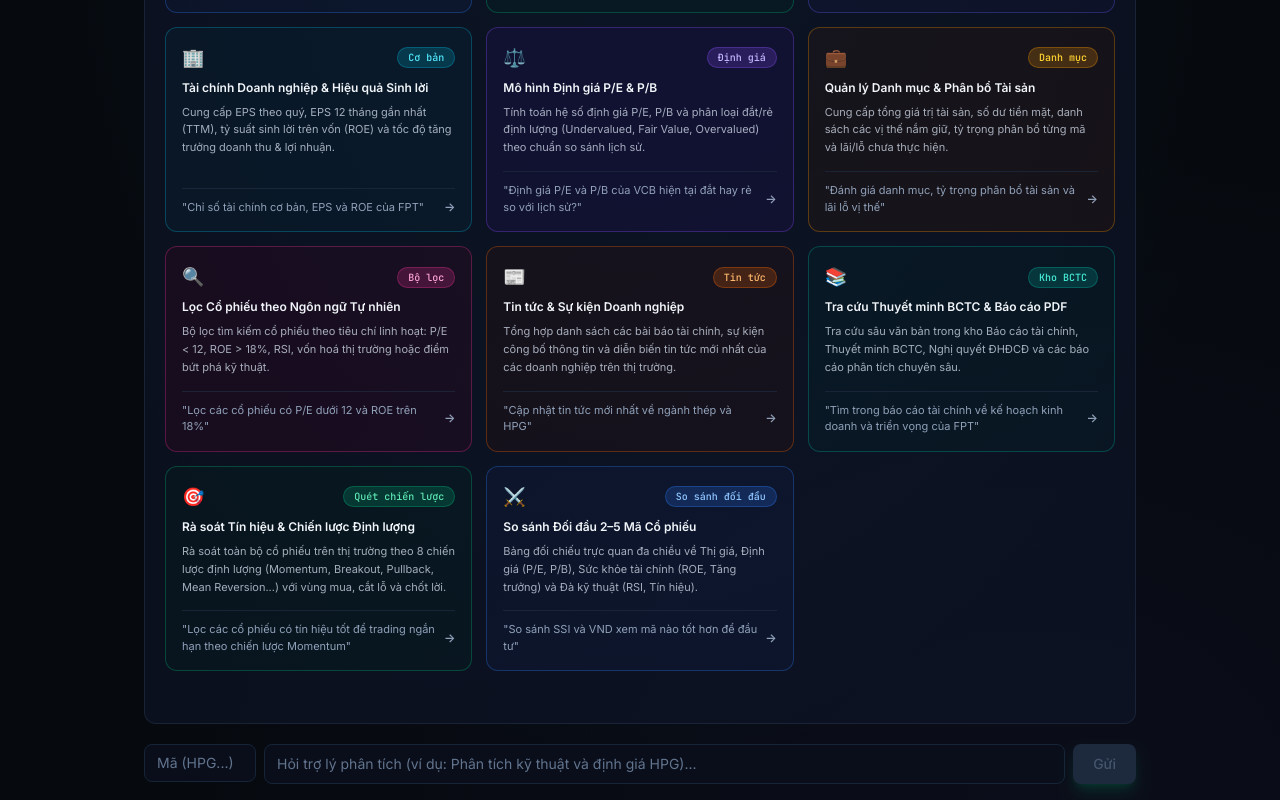
Test case: AskAnalyst Component (User Story 1: P1) › replaces the STARTED card with its terminal status rather than duplicating it
The width and height of the screenshot is (1280, 800).
(page scrolled)
Replace the text in the field with placeholder "Hỏi trợ lý phân tích" with "Giá HPG bao nhiêu?" at (665, 764), box left=264, top=744, right=1065, bottom=784
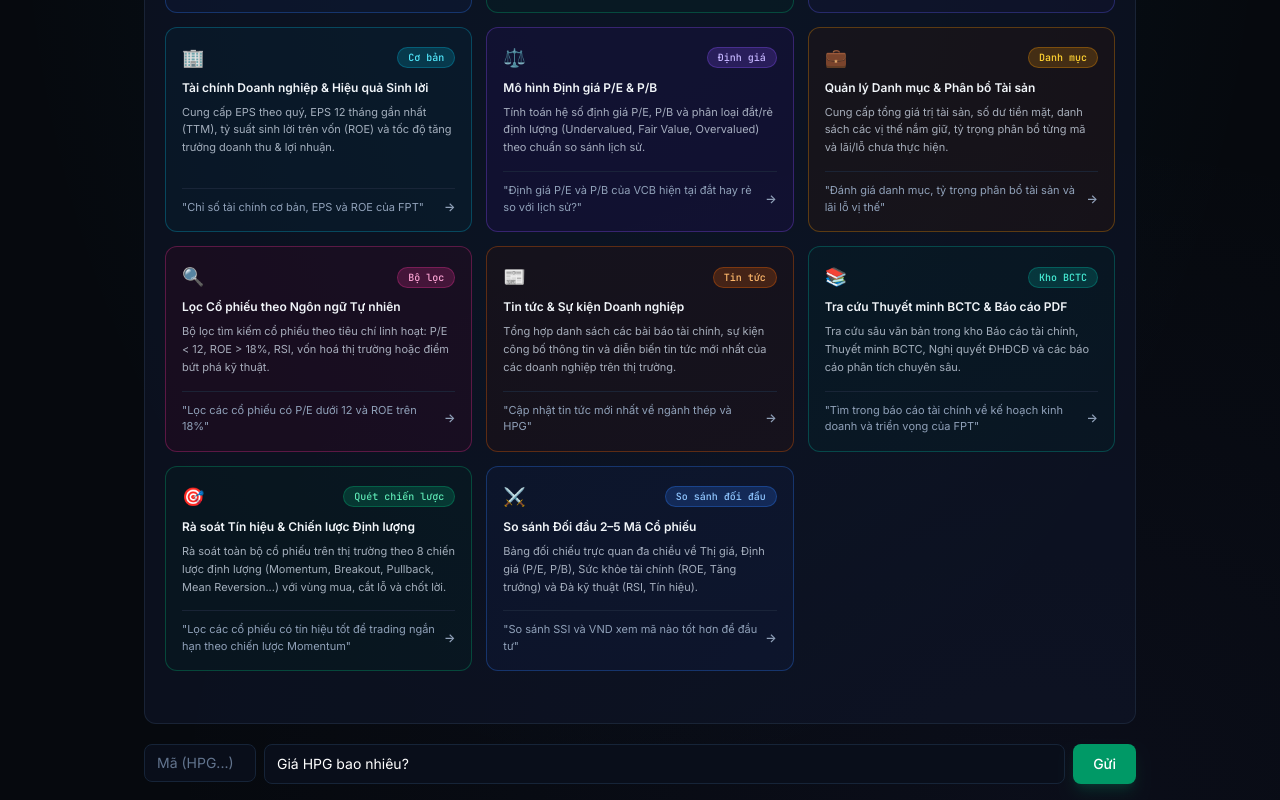
Click the button "Gửi" at (1105, 764), box left=1073, top=744, right=1136, bottom=784
(page scrolled)
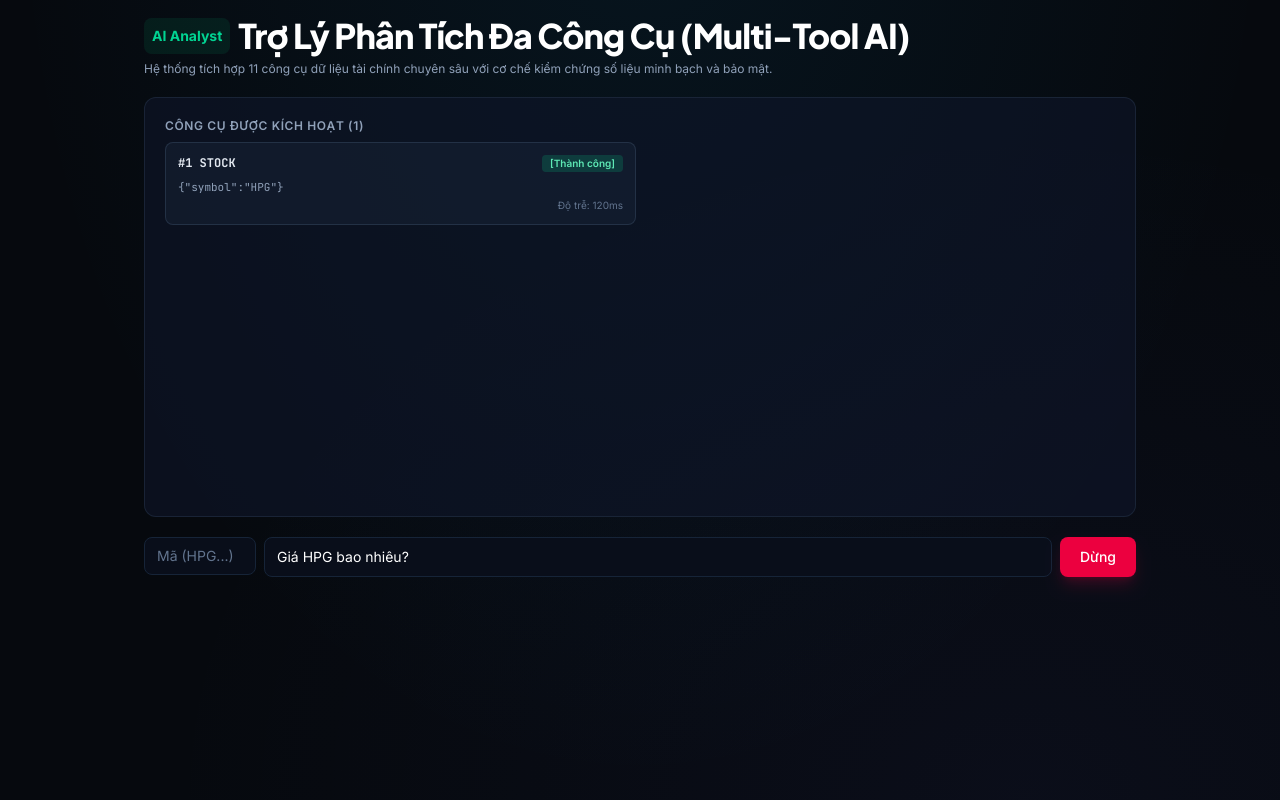
Result: the text "#1 STOCK" is shown once at left=178, top=156, right=236, bottom=172
Result: the text "[Thành công]" is shown at left=542, top=155, right=623, bottom=172
